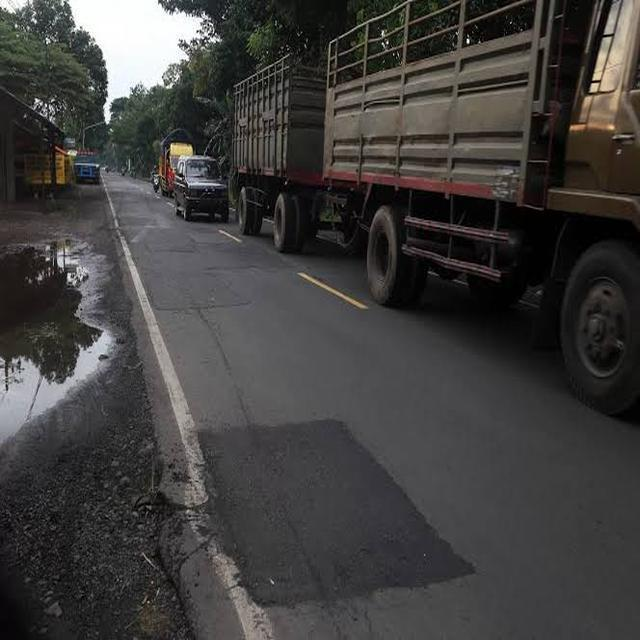Sambungan: (202, 413, 474, 614)
